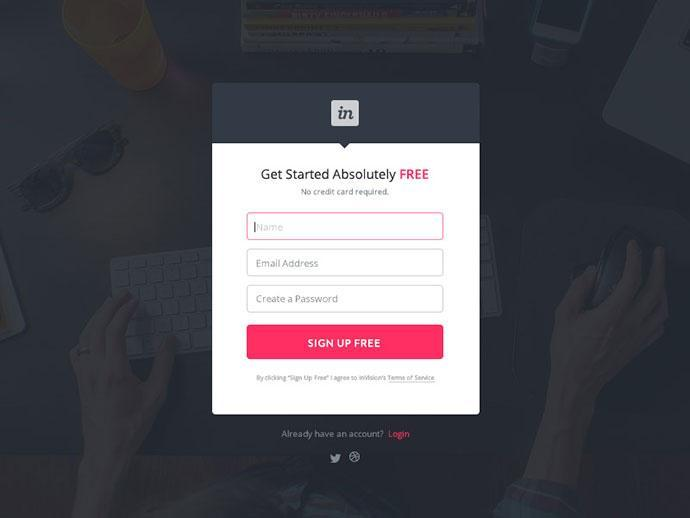button: (248, 325, 445, 360)
icon: (331, 100, 361, 128), (349, 450, 363, 467), (329, 453, 342, 466)
input: (247, 286, 445, 314), (248, 250, 445, 278), (247, 214, 444, 240)
